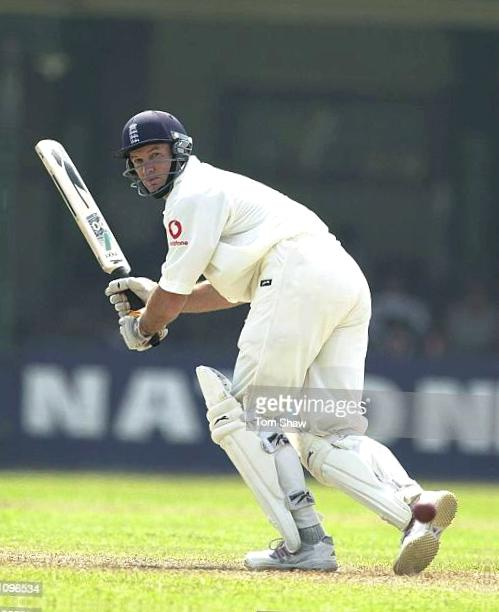batsman: (57, 65, 499, 612)
